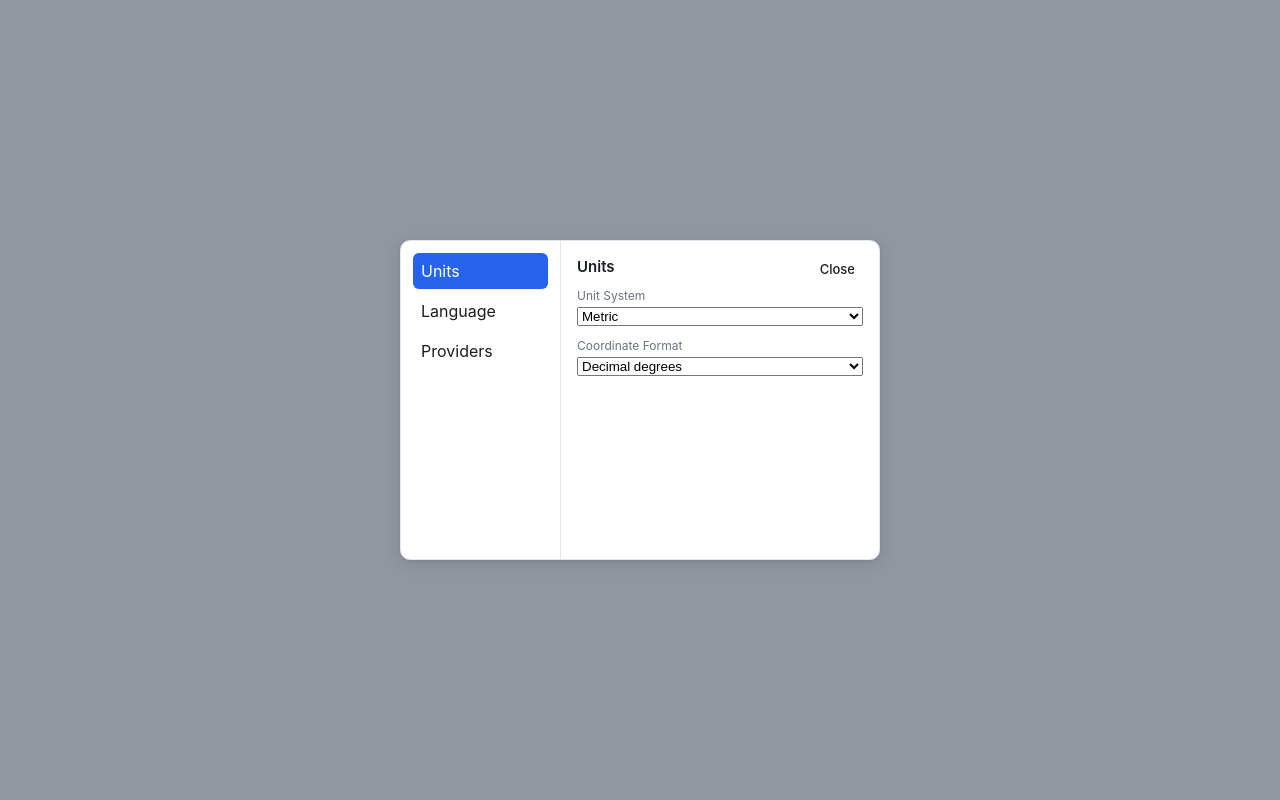
Test: SettingsModal › shows the Providers section when its nav item is clicked
Click the button "Providers" at (480, 351), box [413,333,548,369]
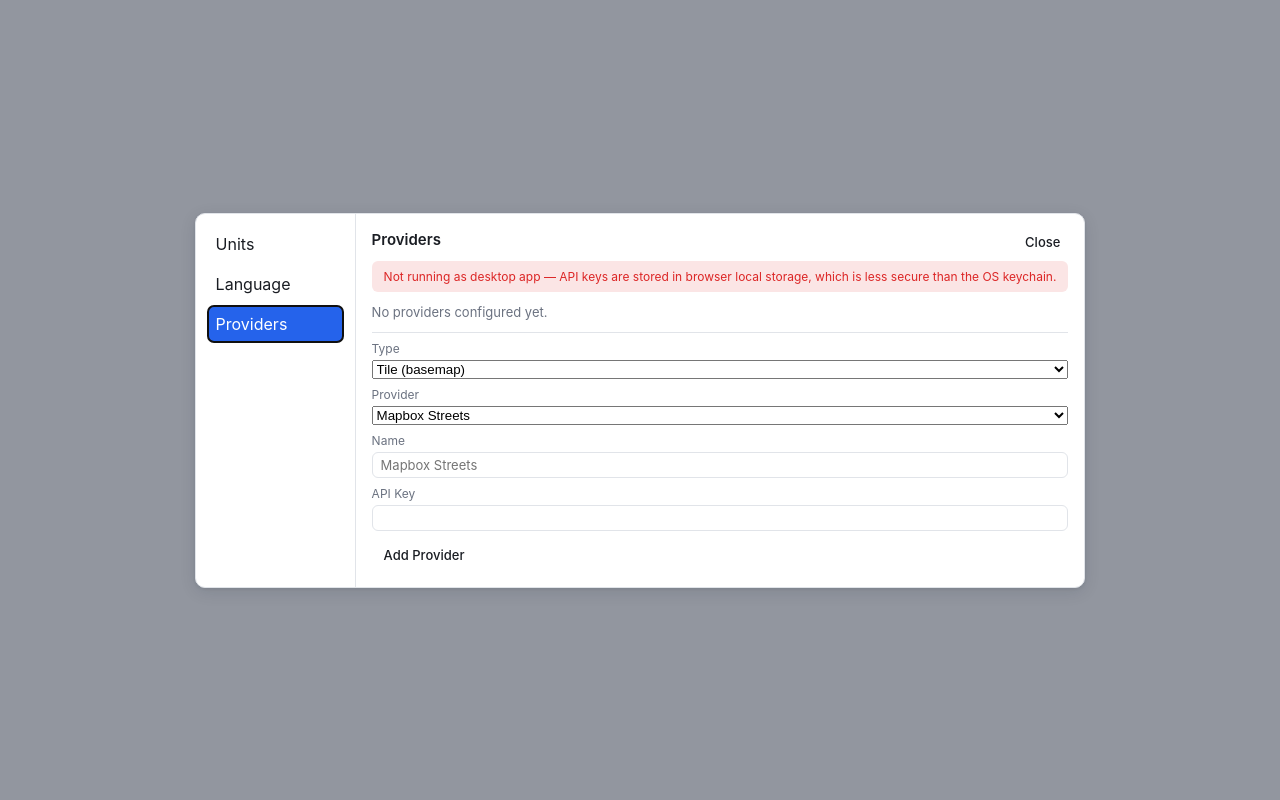
Check: the list item "No providers configured yet." is shown, box [372,304,548,320]
